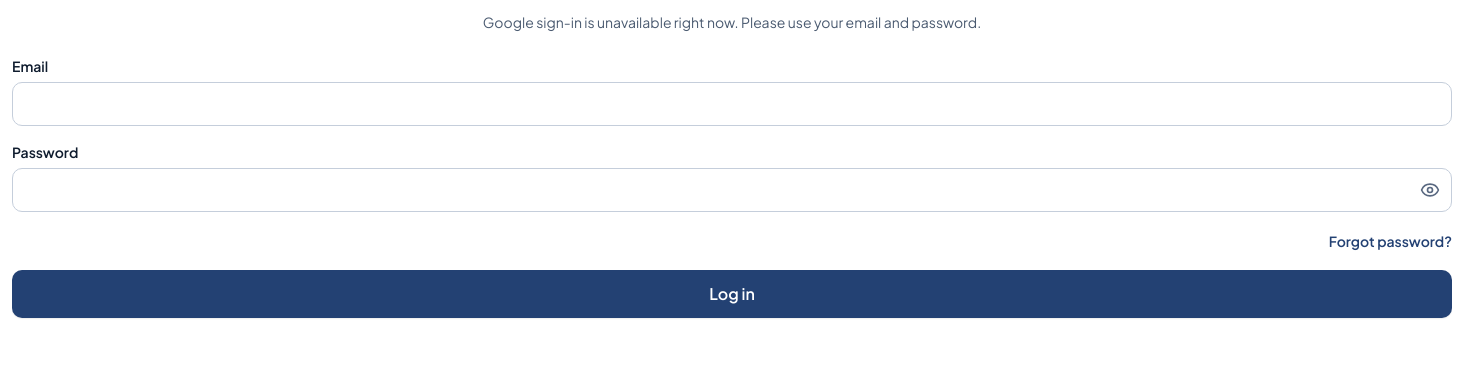
Test: LoginForm › moves to the code step (and asks for a code) when the email is unverified
The image size is (1464, 366).
Type "a@example.com" into the field labelled "Email" at (732, 104), box [12, 82, 1452, 126]
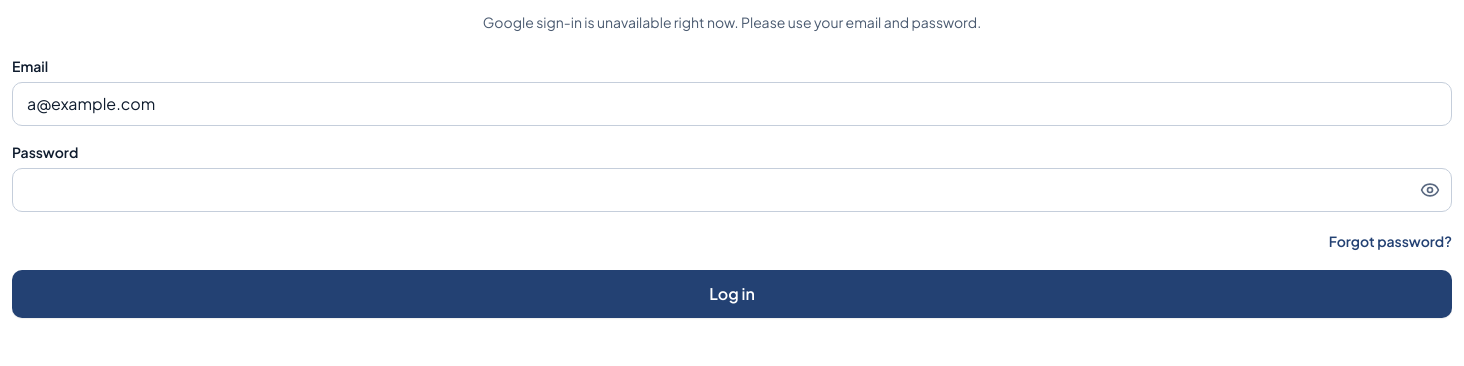
Type "right-password" into the password field labelled "Password" at (732, 190), box [12, 168, 1452, 212]
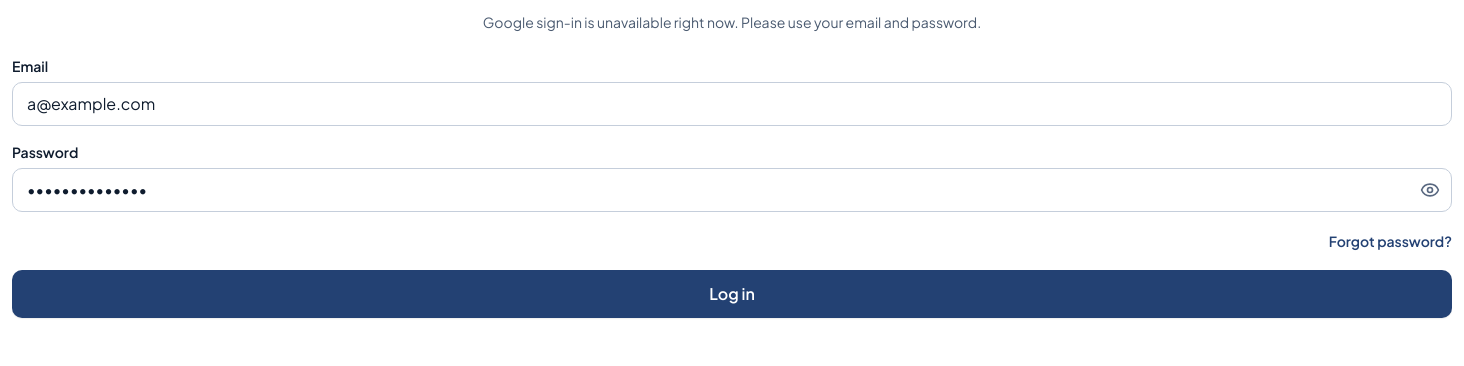
Click the button "Log in" at (732, 294), box [12, 270, 1452, 318]
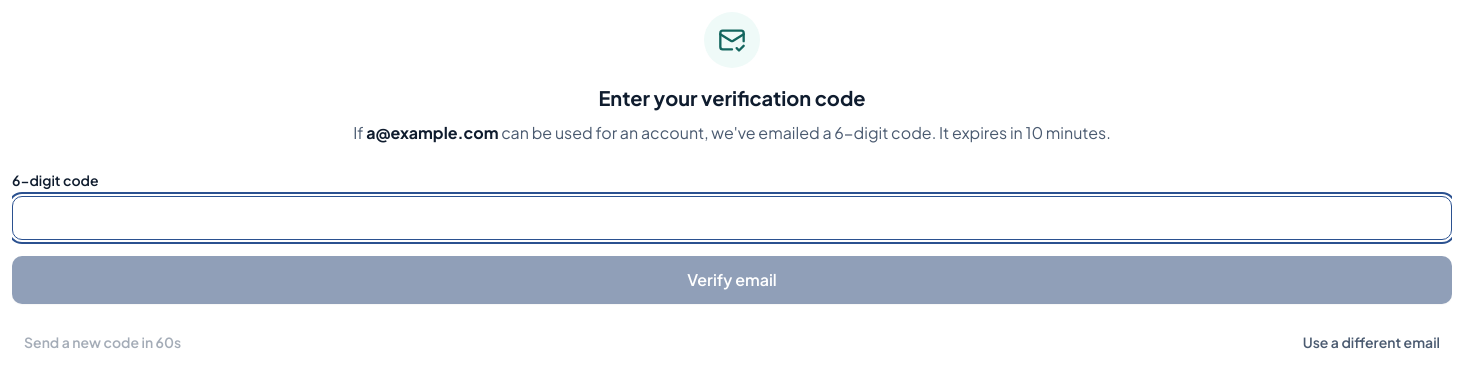
Now the heading "Enter your verification code" is shown, box [598, 85, 866, 110]
Now the button "Log in" is gone
